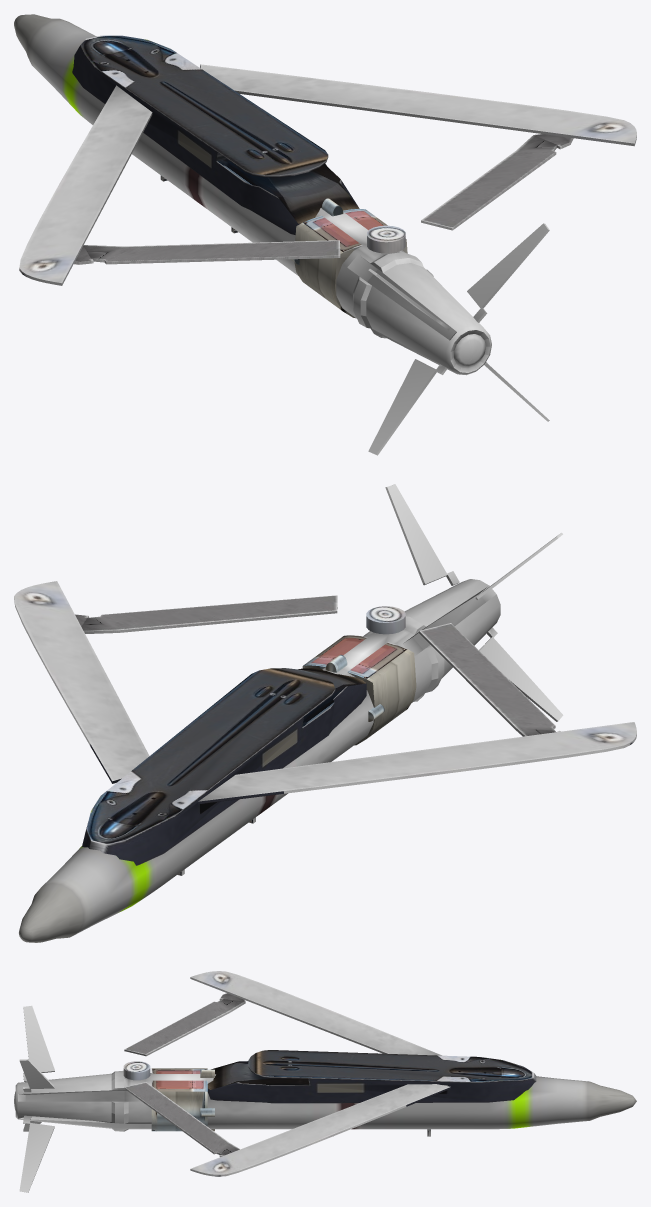
Rendered from w_gbu39.glb.
3 views of the same model, one above another, from view 1: azimuth 30°, elevation 25°; view 2: azimuth 150°, elevation 25°; view 3: azimuth 270°, elevation 25° (orthographic). The views are drawn at different scales.
Visible parts, largest first — view 1: body|Material_25, wingA|Material_25, wingB|Material_25; view 2: body|Material_25, wingB|Material_25, wingA|Material_25; view 3: body|Material_25, wingA|Material_25, wingB|Material_25.
Part boxes in pixels (left/top/right/bottom): body|Material_25: left=14, top=14, right=549, bottom=455; wingA|Material_25: left=200, top=64, right=636, bottom=230; wingB|Material_25: left=19, top=85, right=340, bottom=285; body|Material_25: left=19, top=484, right=563, bottom=942; wingB|Material_25: left=198, top=623, right=636, bottom=804; wingA|Material_25: left=14, top=581, right=337, bottom=783; body|Material_25: left=14, top=1005, right=636, bottom=1192; wingA|Material_25: left=124, top=1082, right=450, bottom=1176; wingB|Material_25: left=124, top=971, right=441, bottom=1056.
Size of the model in its own units: 1.66 by 0.5085 by 2.15.
Materials: 3 (3 with a texture image).
